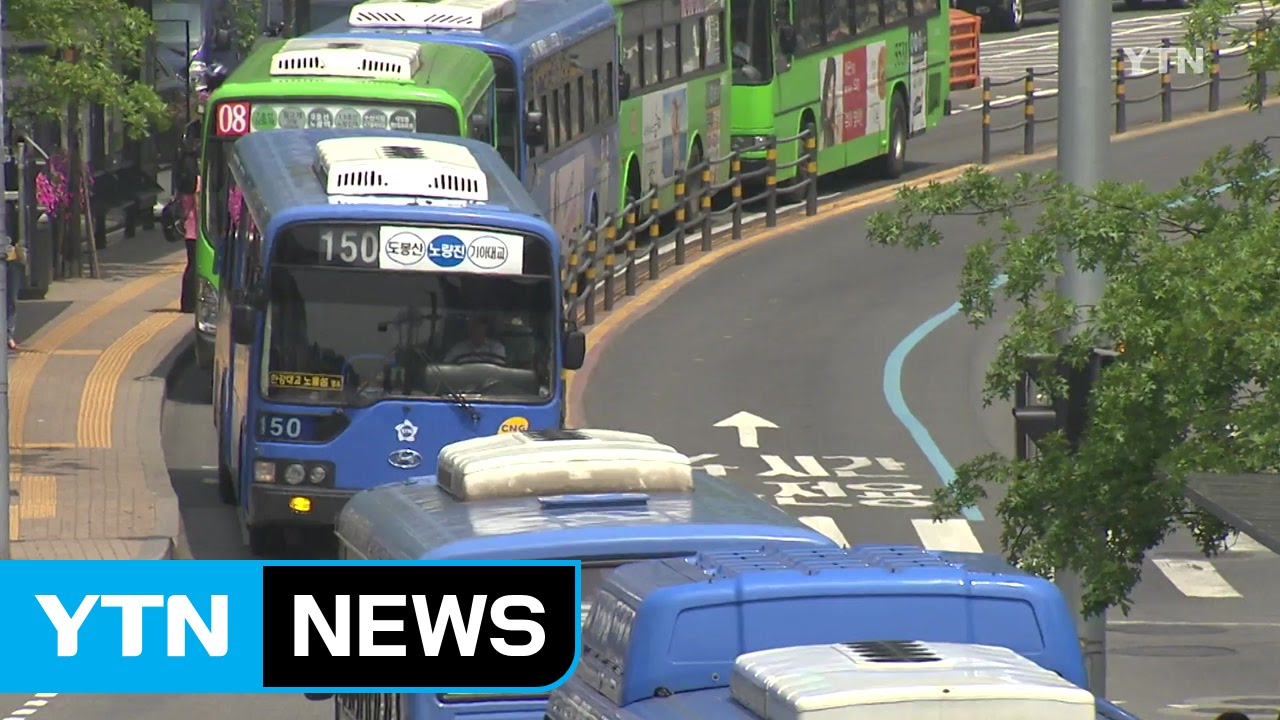bnum: (319, 227, 380, 267)
